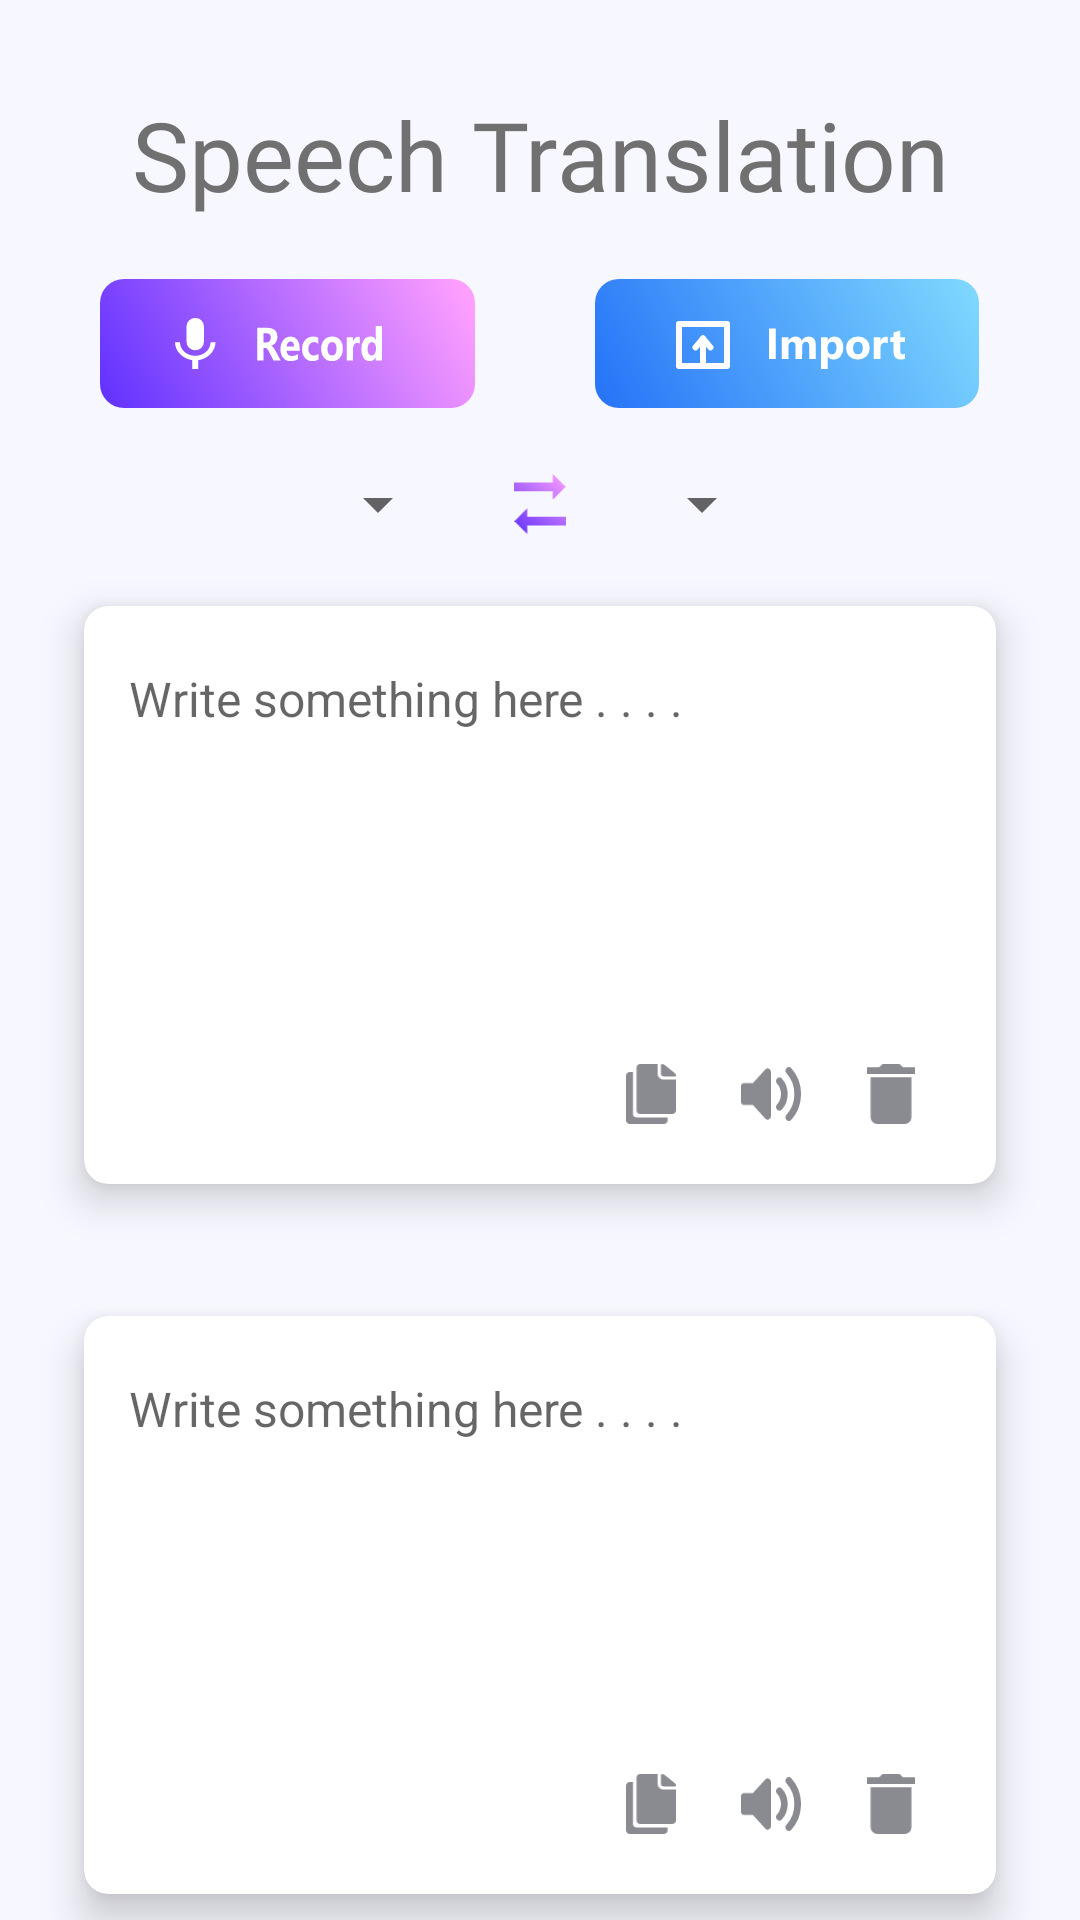

Where icons sit on this 1080*1920 app screen, as {"left": x1, "top": y1, "right": x2, "bottom": y2}:
delete: {"left": 867, "top": 1064, "right": 915, "bottom": 1124}, {"left": 867, "top": 1774, "right": 915, "bottom": 1834}
sound: {"left": 741, "top": 1067, "right": 801, "bottom": 1121}, {"left": 741, "top": 1777, "right": 801, "bottom": 1831}
transfer: {"left": 514, "top": 474, "right": 566, "bottom": 534}
